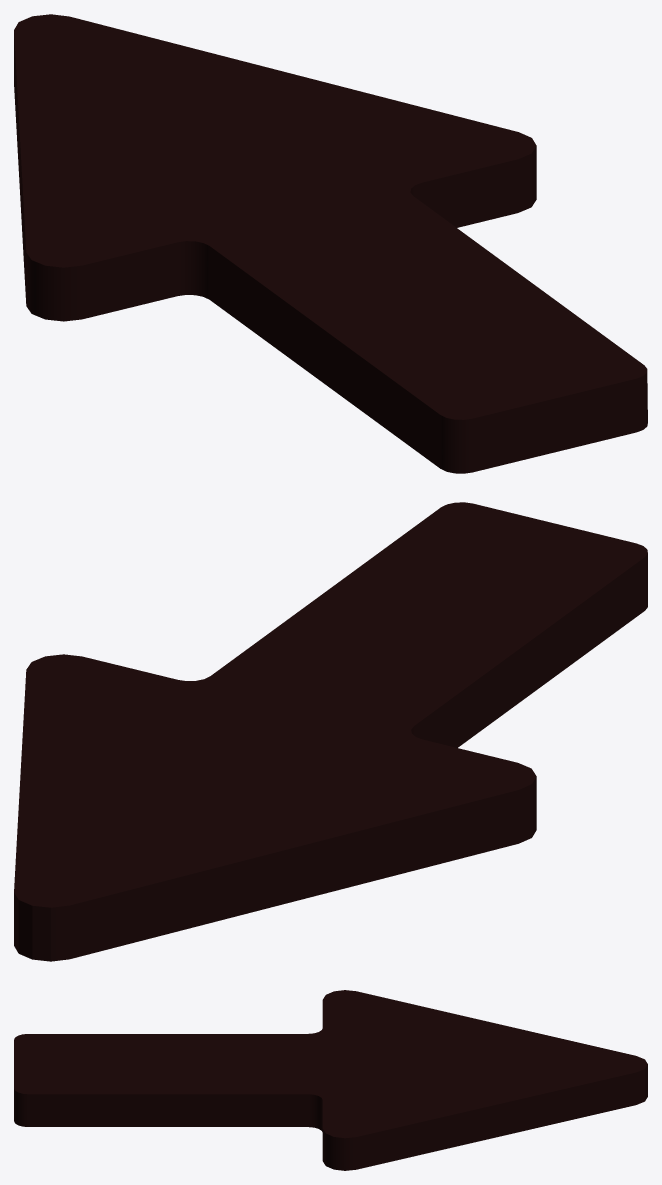
Rendered from PointMesh.fbx.
The picture shows the model from 3 angles, top to bottom: view 1: azimuth 30°, elevation 25°; view 2: azimuth 150°, elevation 25°; view 3: azimuth 270°, elevation 25°; orthographic projection. The views are drawn at different scales.
Parts seen in each view (by area): view 1: pCube1; view 2: pCube1; view 3: pCube1.
Part boxes in pixels (x1,y1,x2,y2): pCube1: (14,14,647,473); pCube1: (14,502,647,961); pCube1: (14,990,647,1170).
Size of the model in its own units: 9.75 by 1 by 17.63.
